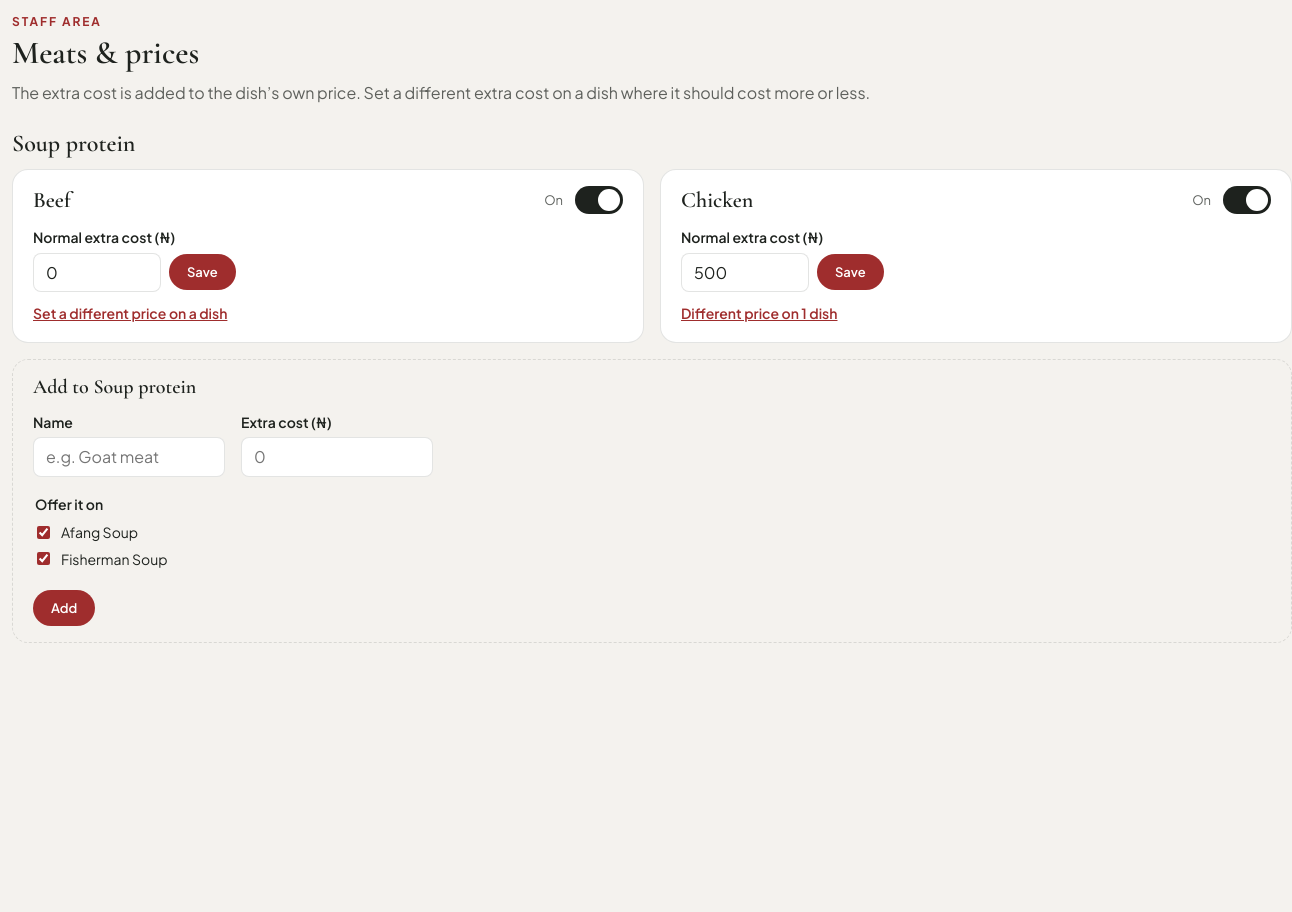
Scenario: AdminMeatsView › changing a meat’s price › shows the server’s reason and keeps what was typed
The image size is (1292, 912).
Replace the text in the field with test id "price" below "Chicken" with "900": (745, 272) [681,253,809,292]
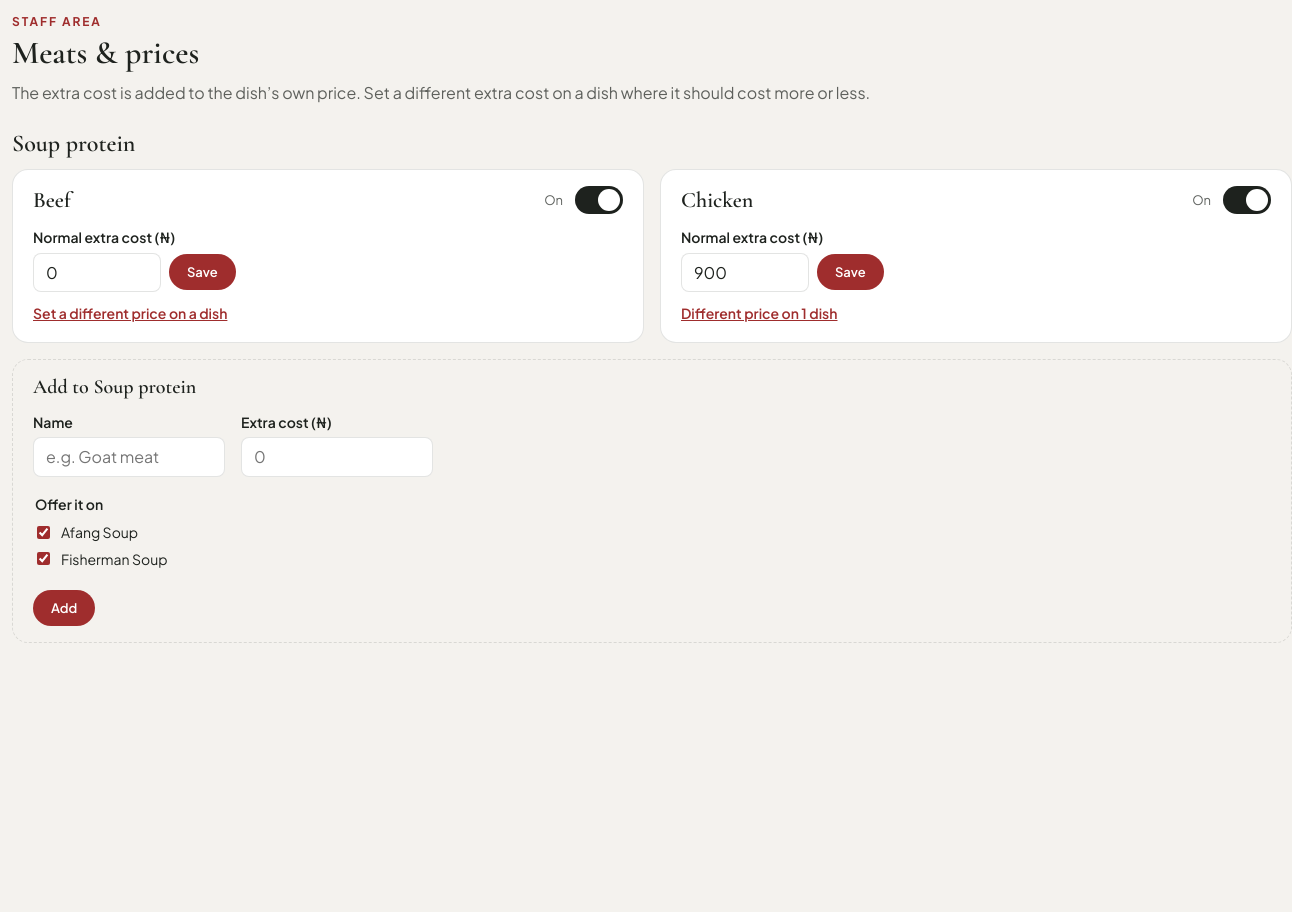
Submit the form with test id "price-form" below "Chicken", box [681,228,884,292]
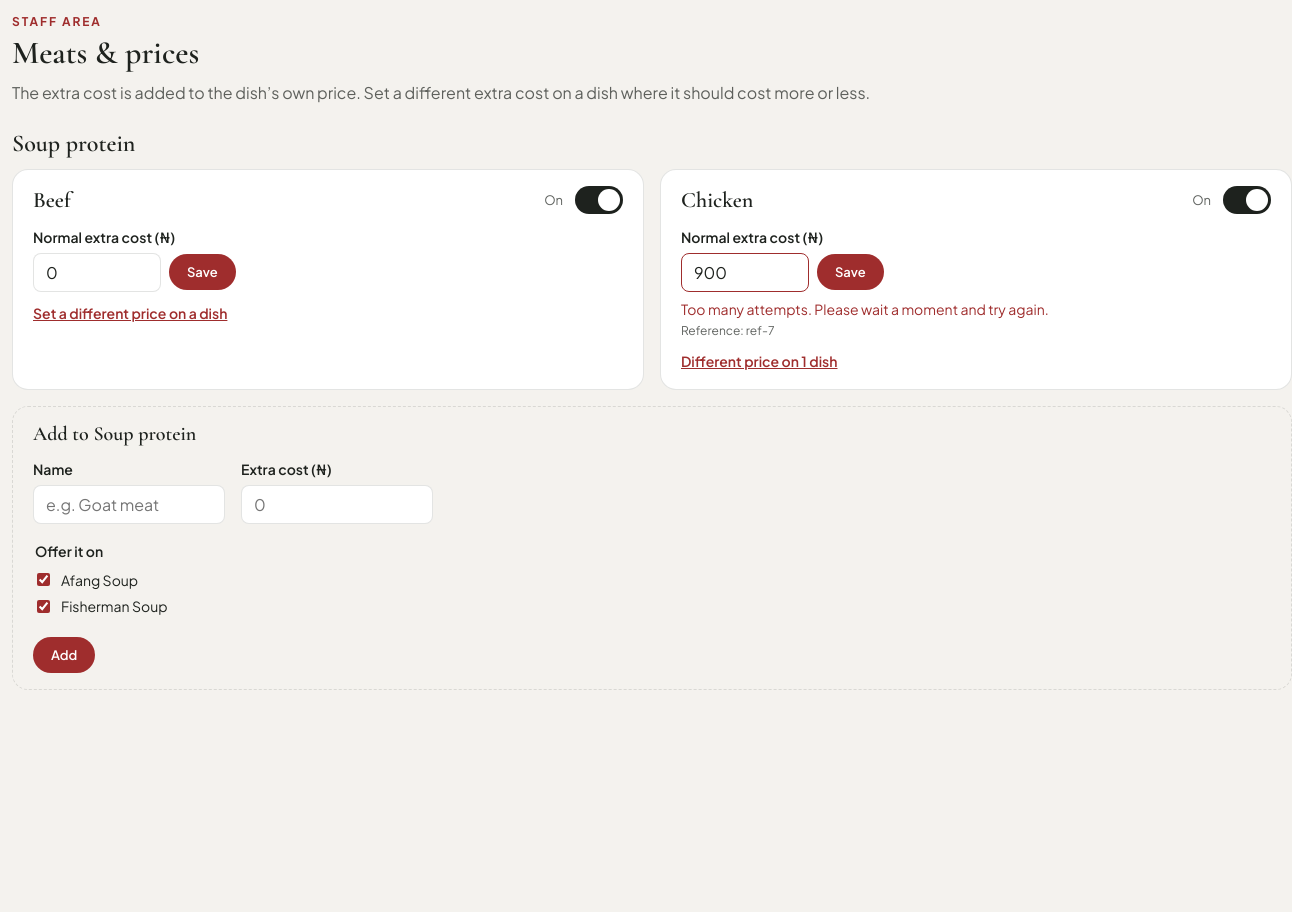
Expected: the element with test id "price-error" shows "Too many attempts", [681,300,1049,318]
Expected: the element with test id "price-error" shows "Reference: ref-7", [681,322,774,338]
